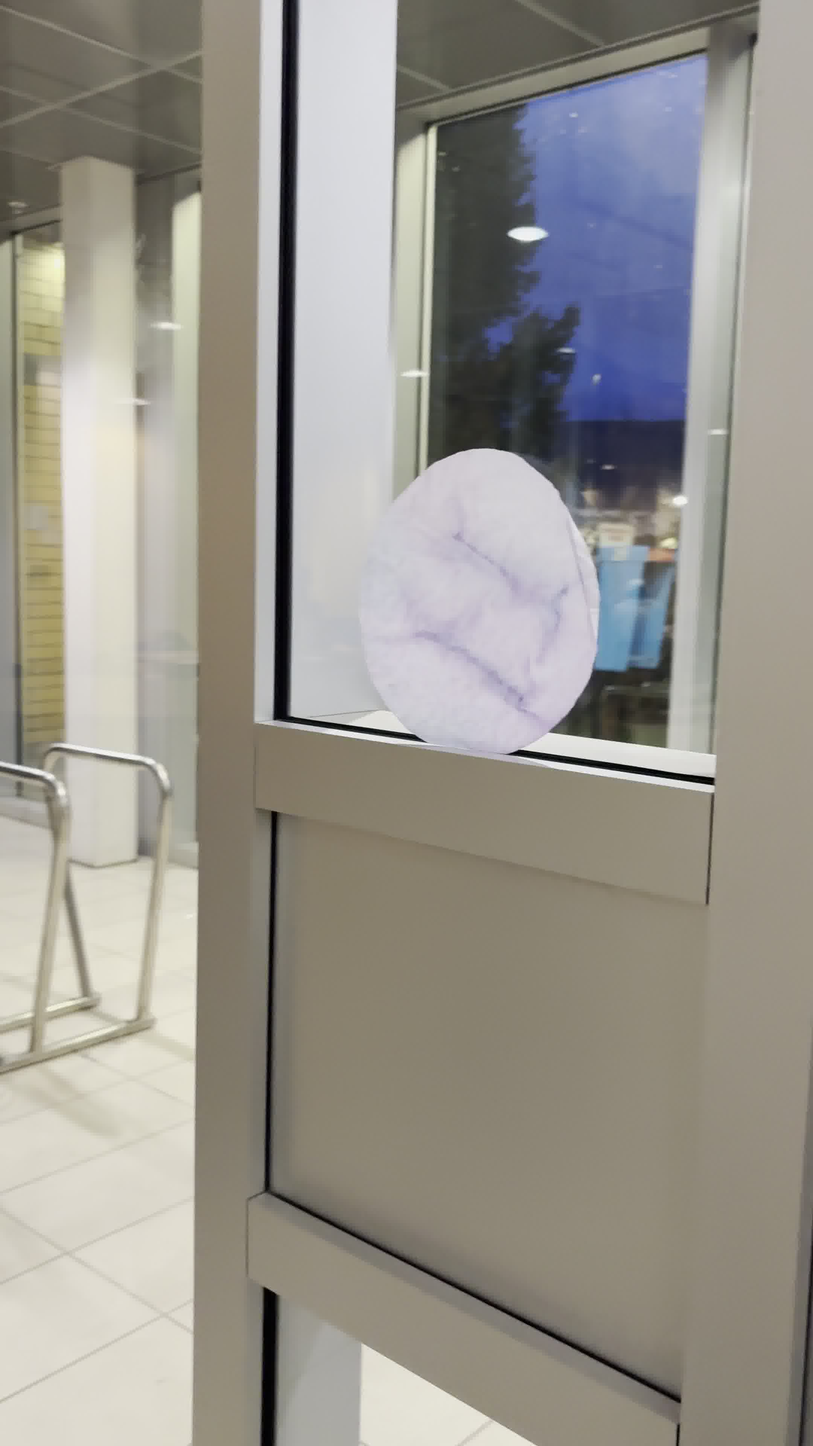Target: (358, 445, 600, 761)
